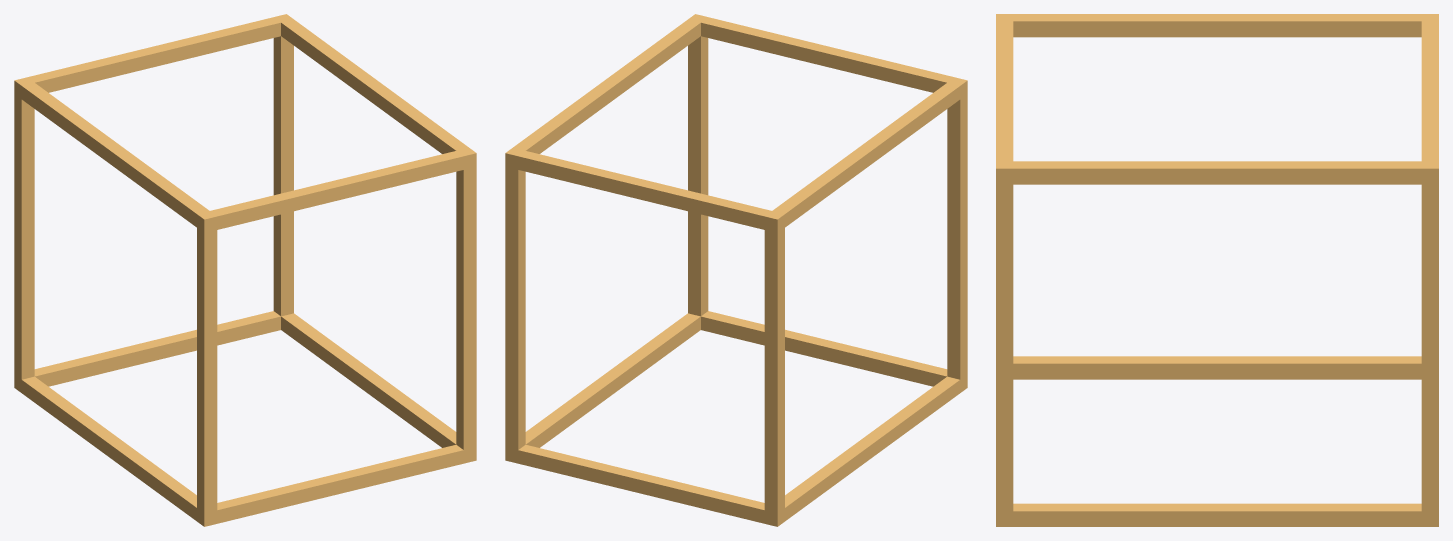
File: hats.glb
The picture shows the model from 3 angles, left to right: view 1: azimuth 30°, elevation 25°; view 2: azimuth 150°, elevation 25°; view 3: azimuth 270°, elevation 25°; orthographic projection. The views are drawn at different scales.
Parts seen in each view (by area): view 1: box_0; view 2: box_0; view 3: box_0.
Part boxes in pixels (x1,y1,x2,y2): box_0: [14, 14, 476, 526]; box_0: [505, 14, 967, 526]; box_0: [996, 14, 1438, 526].
Bounding box in the file's own units: 0.2101 × 0.2267 × 0.2541.
